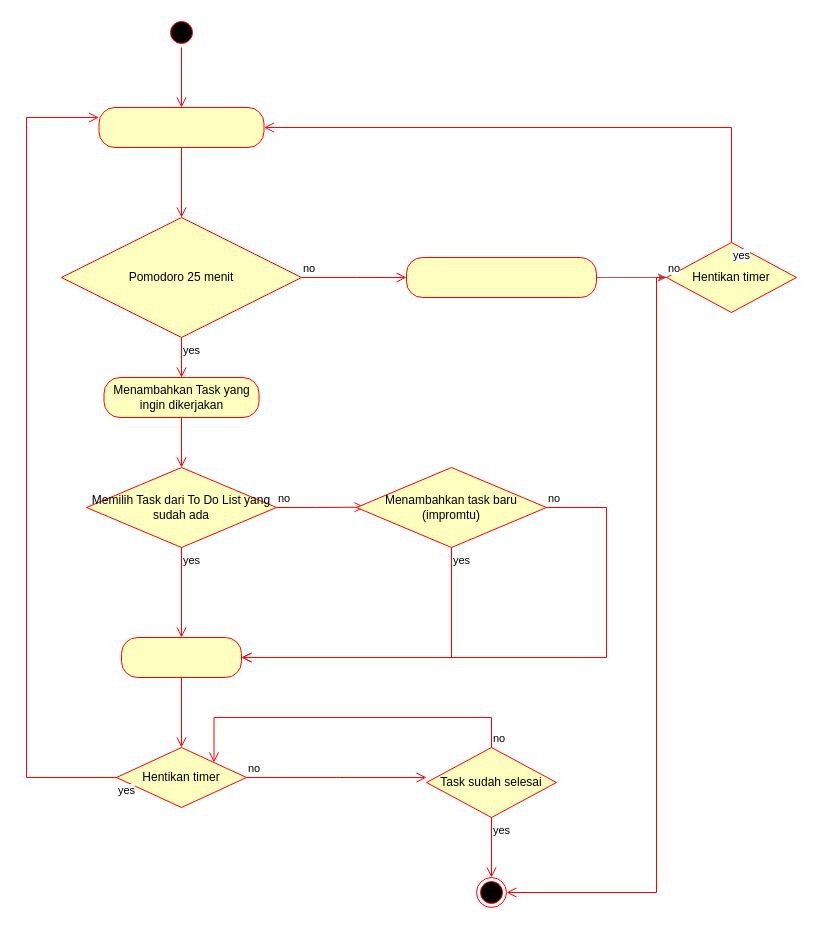
Image size: 814x925. Some labels were removed from this diagram. The shapes that lost their labels are listed below. From the top down, each one's centre as x and y in pixels, then its label:
the point at 181,127: Pengguna memilih tipe tahapan pomodoro
the point at 501,277: Memulai tahapan Short Break 5 menit atau Long Break 15 menit
the point at 181,657: Memulai sesi Pomodoro
